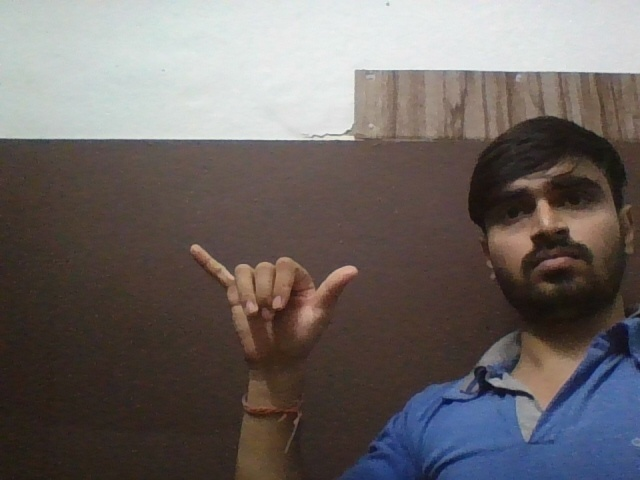Y: (174, 229, 378, 363)
